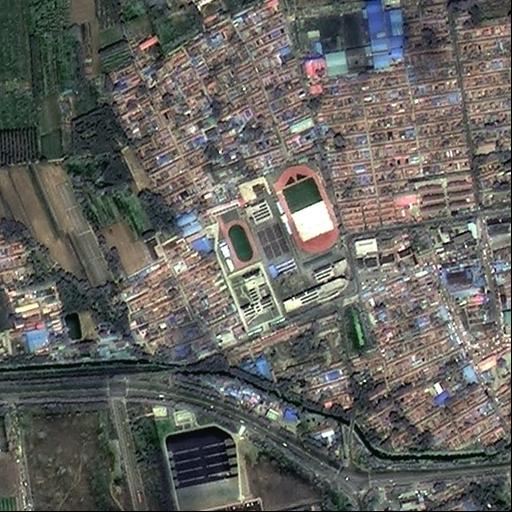school: (214, 162, 354, 334)
